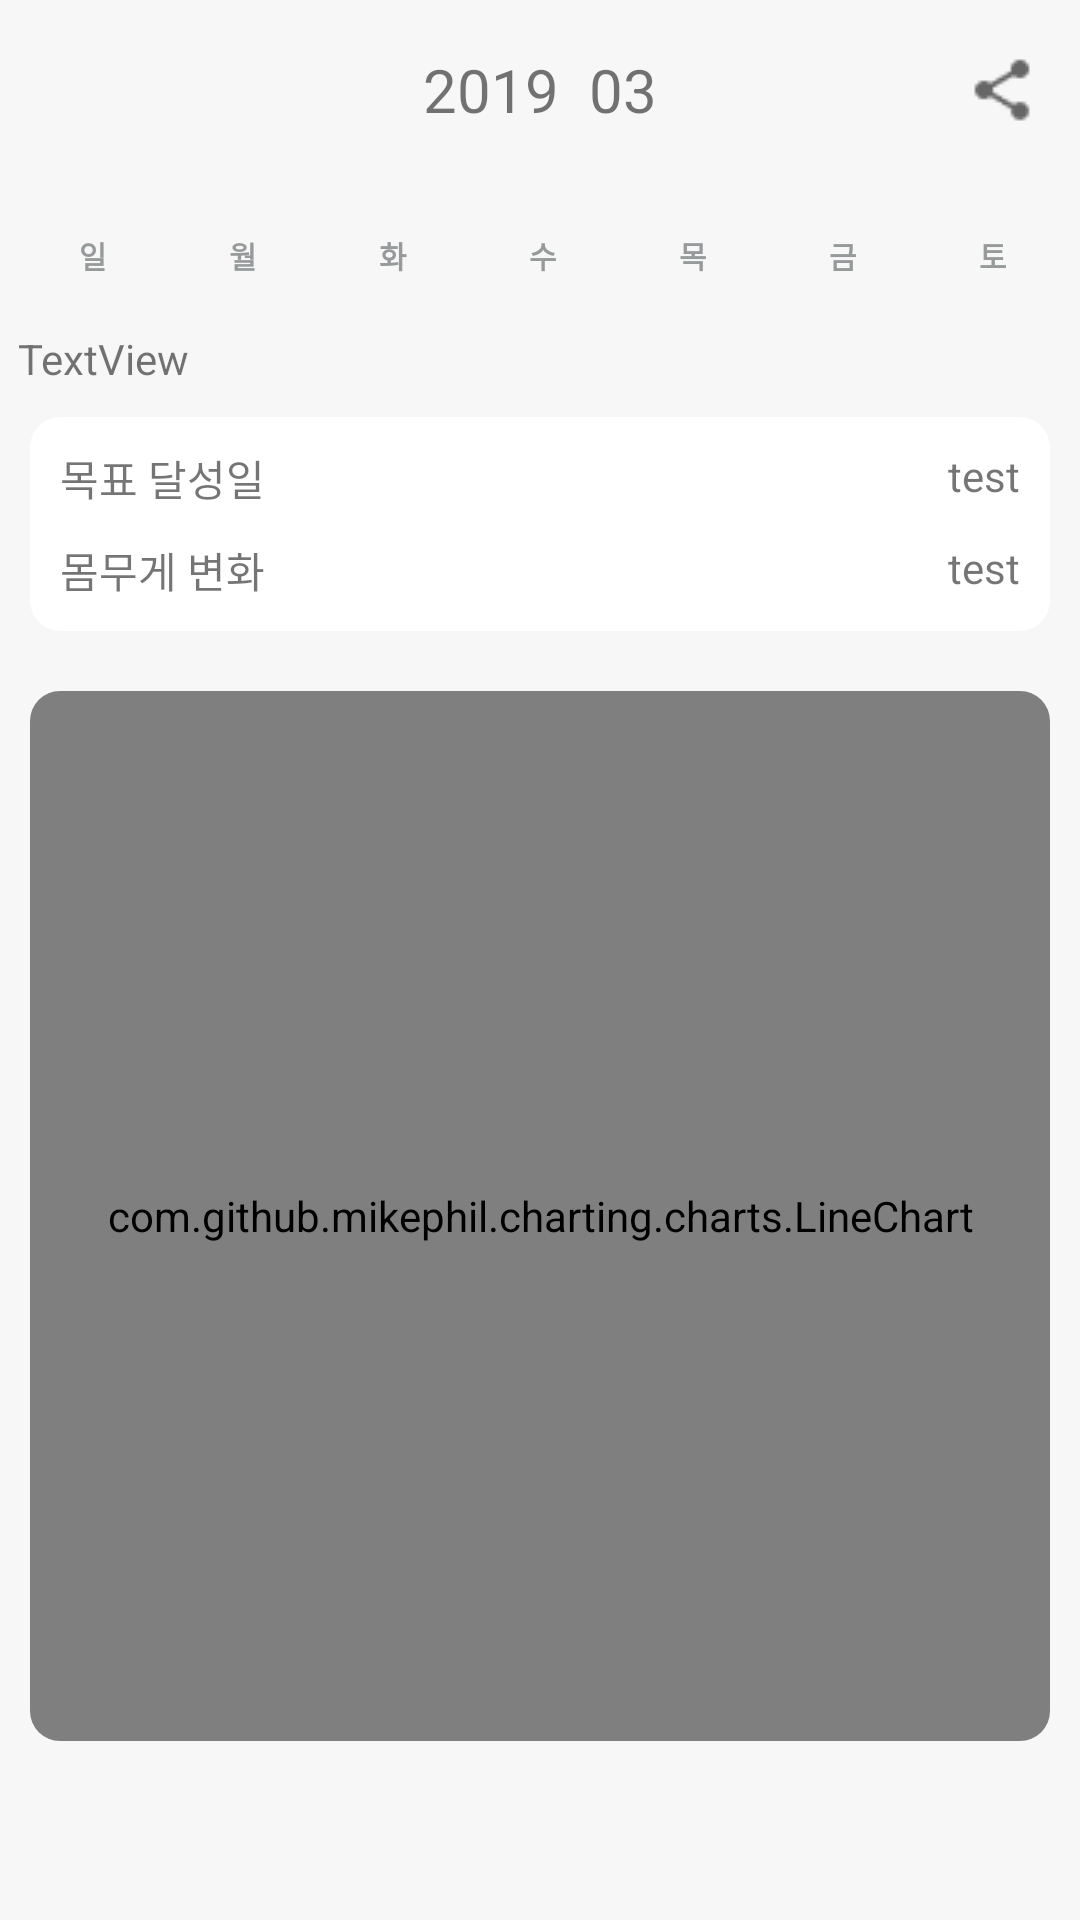

Icons on this 1080 × 1920 Android screen, each with its box as (x1, y1, x2, y2):
share variant: (974, 59, 1030, 121)
